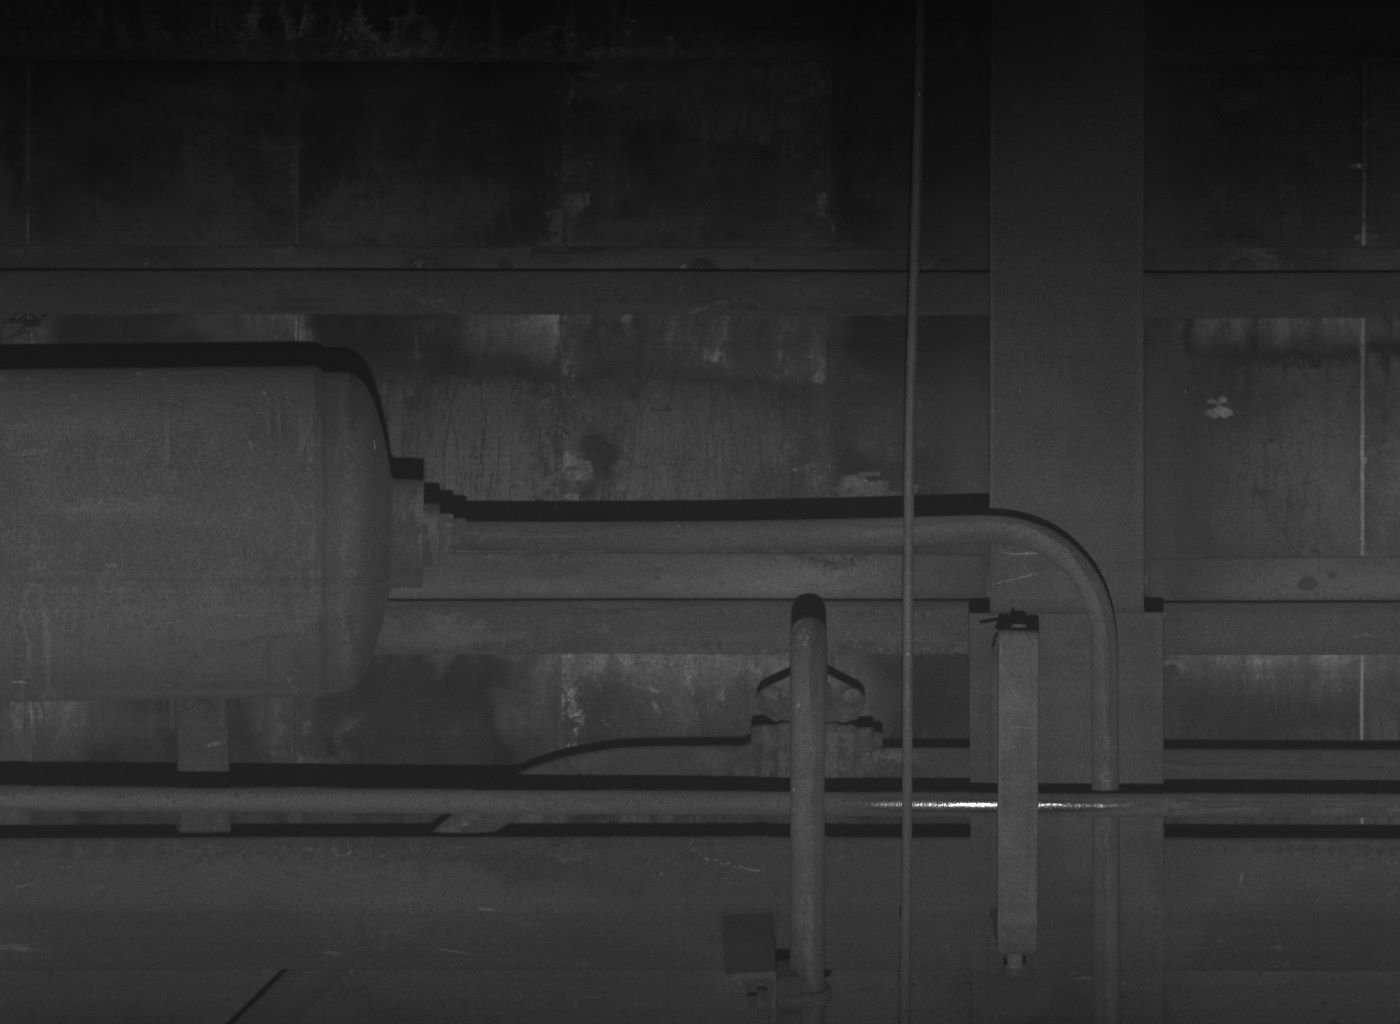normal: (988, 617, 1039, 974)
